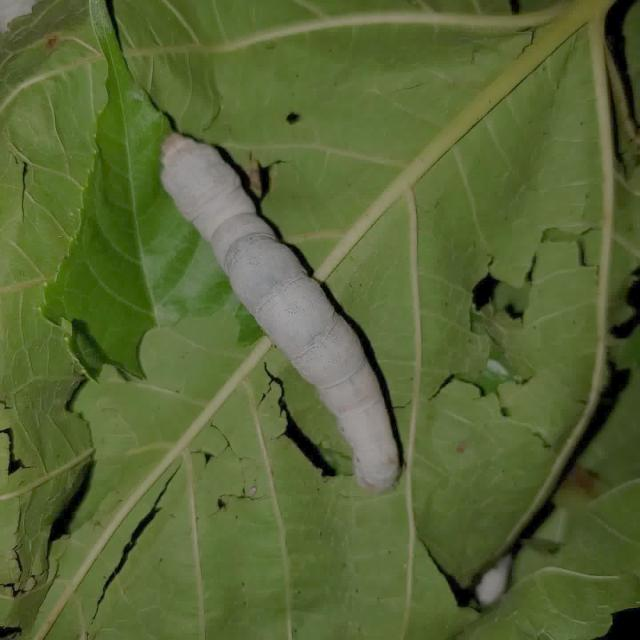Healthy: (150, 121, 408, 497)
